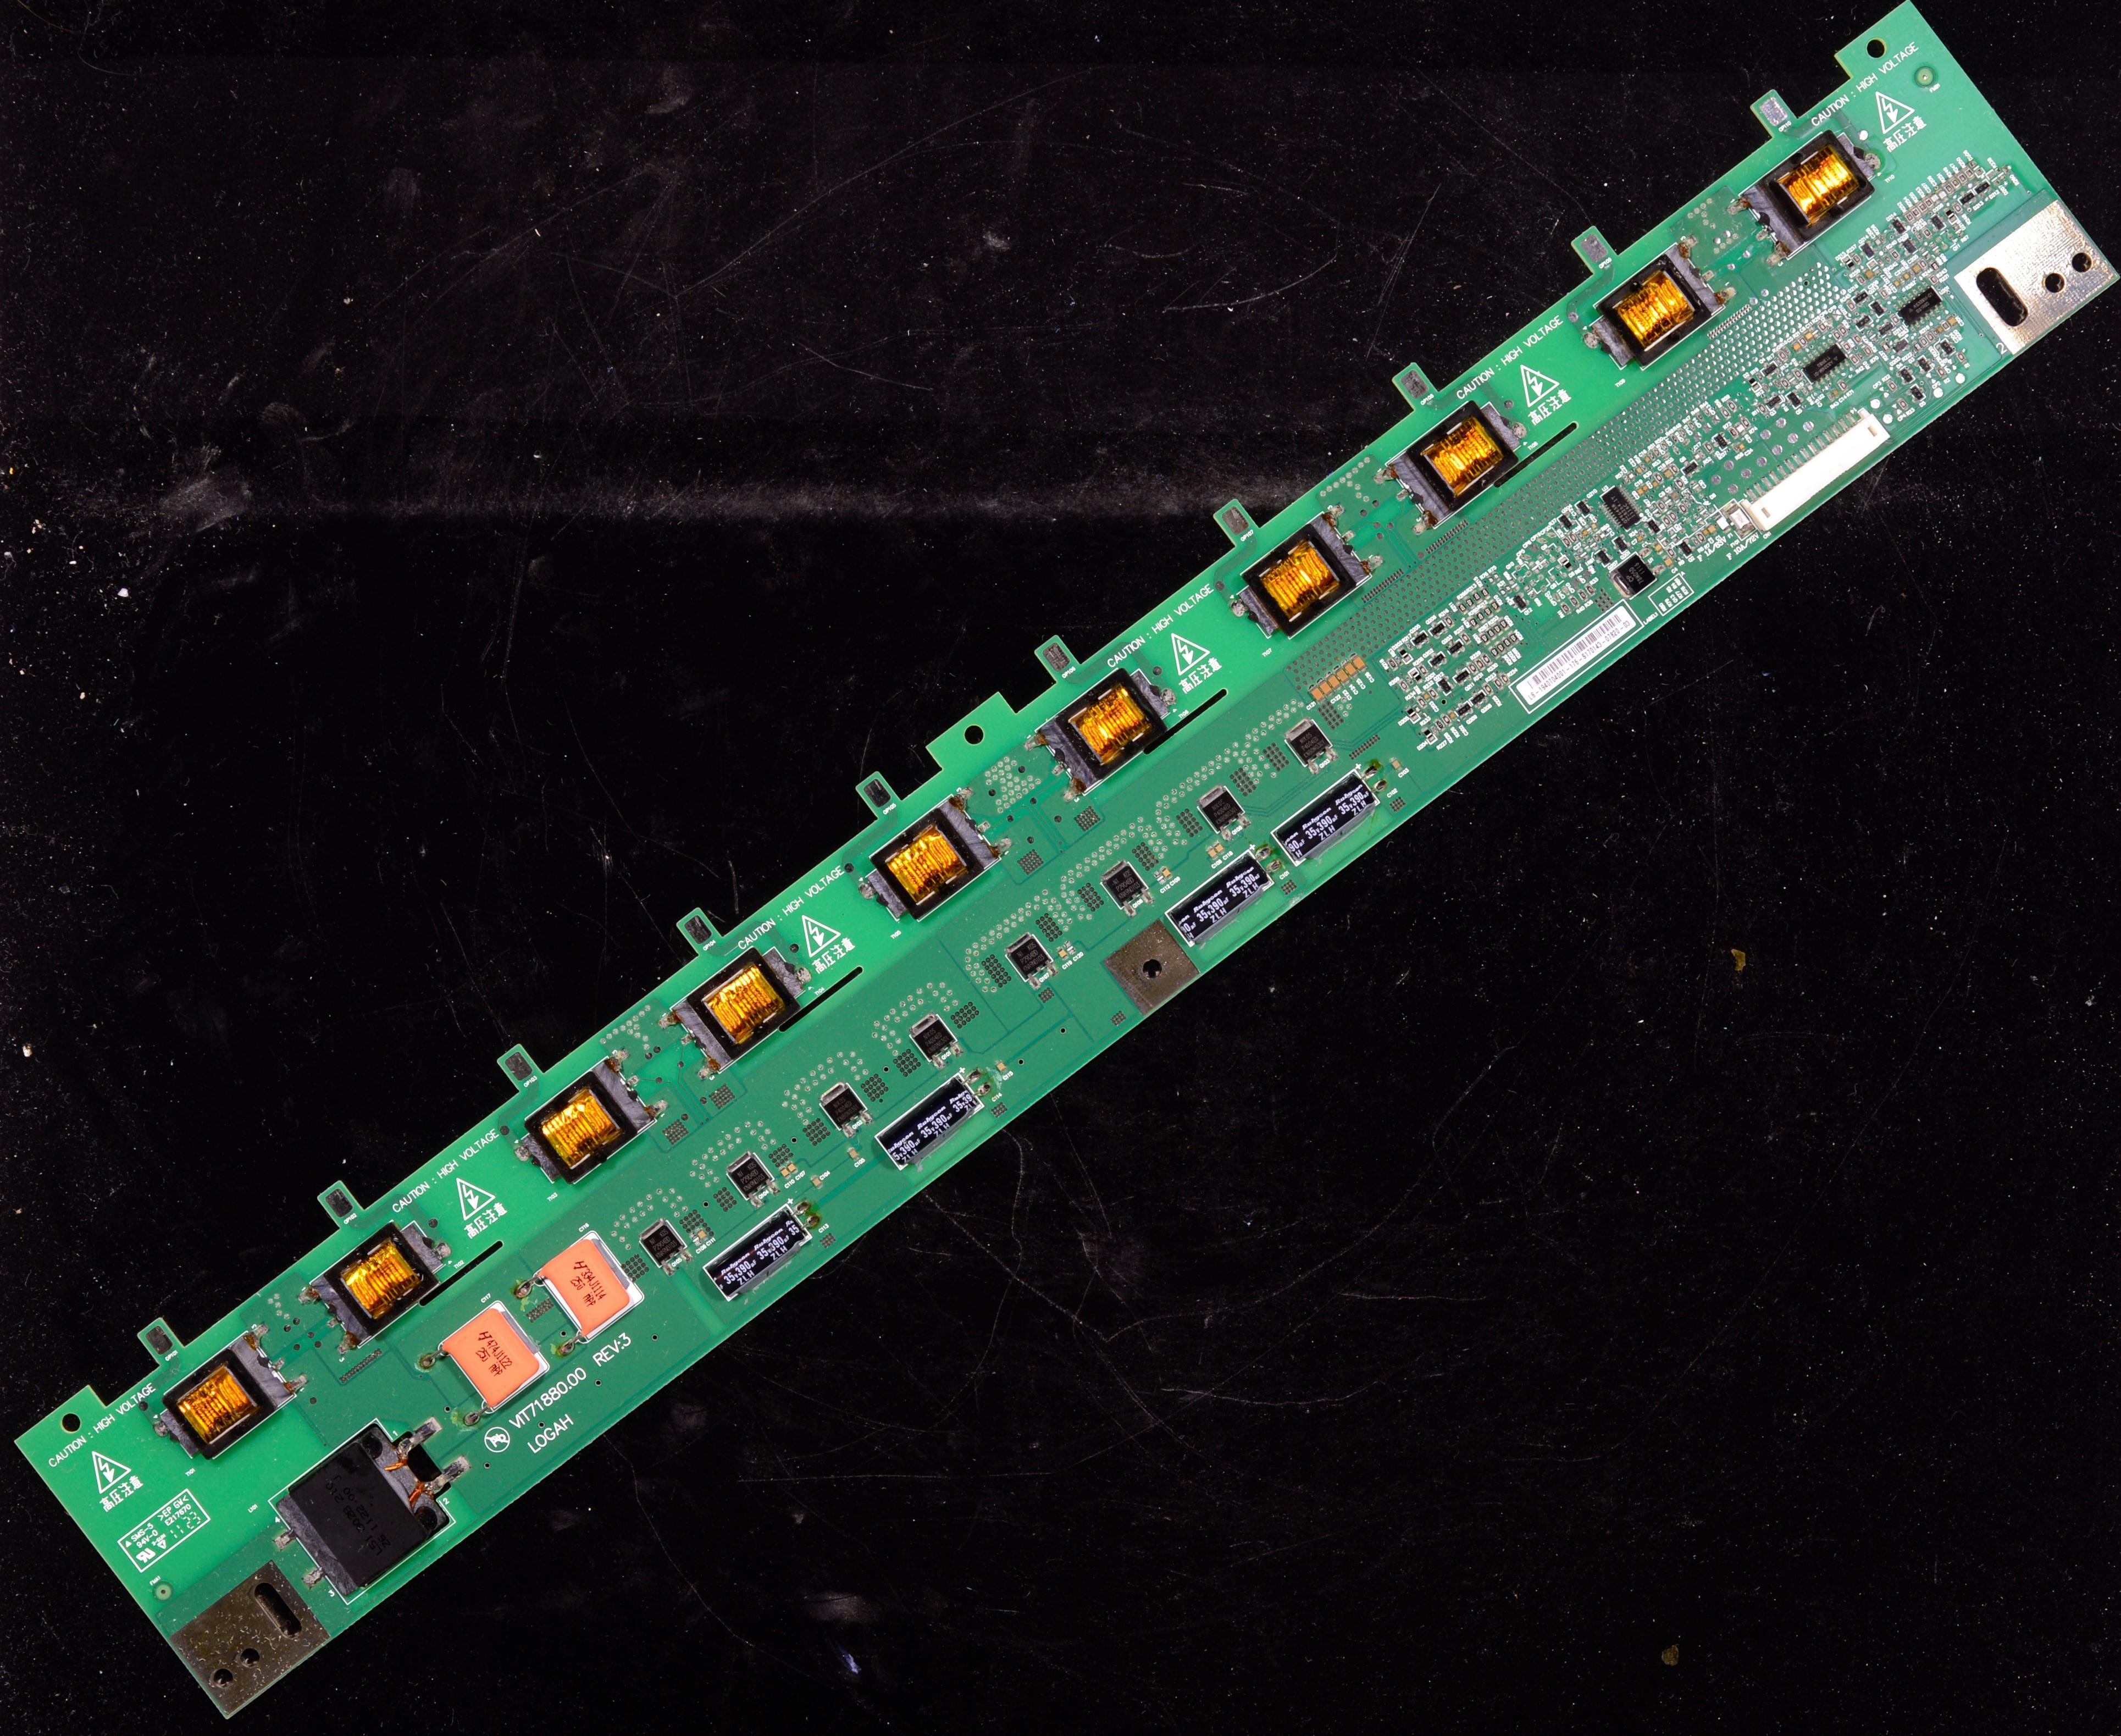Capacitor: (525, 1216, 665, 1347), (424, 1296, 558, 1407), (987, 1059, 1020, 1080), (783, 1155, 802, 1182), (1210, 835, 1232, 862), (1384, 755, 1413, 776), (841, 1146, 867, 1165), (1150, 867, 1171, 889), (1051, 948, 1076, 966), (806, 1175, 830, 1192), (696, 1223, 712, 1247), (777, 1166, 796, 1184), (1062, 939, 1083, 955), (1201, 845, 1220, 863), (686, 1234, 705, 1251), (1161, 860, 1175, 881), (1799, 328, 1818, 342), (1944, 316, 1965, 328), (1926, 192, 1943, 206), (1787, 341, 1806, 353), (1659, 557, 1677, 569), (1705, 524, 1723, 535), (1689, 450, 1704, 463), (1934, 189, 1951, 202), (1735, 441, 1752, 452), (1860, 269, 1878, 280), (1668, 489, 1682, 502), (1652, 539, 1665, 554), (1702, 443, 1718, 454), (1632, 465, 1647, 477), (1910, 263, 1924, 275), (1625, 470, 1638, 482), (1650, 472, 1665, 484), (1700, 529, 1714, 539), (1633, 534, 1647, 544), (1637, 485, 1653, 493), (1662, 496, 1677, 506), (1872, 237, 1884, 248), (1662, 469, 1674, 479), (1890, 280, 1904, 289), (1648, 479, 1660, 489), (1641, 455, 1653, 465), (1902, 273, 1914, 281), (1635, 488, 1648, 497), (1589, 523, 1602, 532), (1936, 326, 1946, 335), (1579, 529, 1591, 537)
IC: (1611, 548, 1660, 598), (1798, 342, 1856, 381), (1890, 287, 1949, 324), (1599, 484, 1641, 526)
Resistor: (1881, 376, 1901, 392), (1499, 668, 1514, 687), (1581, 584, 1607, 596), (1422, 687, 1444, 699), (1438, 715, 1459, 728), (1752, 403, 1771, 417), (1575, 591, 1593, 605), (1565, 596, 1584, 609), (1500, 638, 1519, 652), (1464, 664, 1482, 677), (1954, 352, 1972, 366), (1665, 433, 1683, 445), (1835, 380, 1854, 393), (1738, 416, 1758, 429), (1652, 501, 1672, 513), (1441, 615, 1457, 629), (1393, 682, 1414, 693), (1994, 168, 2009, 181), (1776, 347, 1789, 363), (1718, 406, 1733, 419), (1464, 617, 1481, 629), (1506, 633, 1523, 644), (1400, 639, 1417, 653), (1383, 660, 1401, 672), (1887, 250, 1904, 262), (1923, 331, 1939, 344), (1795, 336, 1812, 349), (1748, 383, 1766, 395), (1894, 399, 1912, 411), (1724, 400, 1742, 412), (1725, 427, 1742, 439), (1487, 601, 1505, 611), (1455, 633, 1474, 644), (1471, 660, 1489, 671), (1489, 678, 1508, 690), (1431, 721, 1449, 732), (1502, 582, 1516, 596), (1851, 331, 1865, 345), (1474, 612, 1489, 623), (1412, 696, 1429, 709), (1954, 173, 1969, 185), (1921, 198, 1935, 209), (1929, 261, 1945, 274), (1889, 314, 1905, 326), (1938, 321, 1954, 333), (1815, 322, 1831, 334), (1934, 369, 1950, 381), (1674, 429, 1690, 440), (1564, 531, 1580, 544), (1559, 538, 1575, 549), (1477, 587, 1495, 598), (1497, 621, 1515, 631), (1485, 648, 1502, 659), (1476, 653, 1494, 665), (1836, 325, 1853, 337), (1839, 344, 1856, 353), (1683, 421, 1702, 433), (1654, 441, 1672, 452), (1665, 512, 1682, 522), (1491, 568, 1503, 583), (1558, 603, 1573, 615), (1483, 606, 1497, 618), (1417, 665, 1431, 676), (1481, 685, 1496, 699), (1962, 168, 1975, 182), (1947, 177, 1961, 189), (1941, 183, 1956, 196), (1914, 202, 1929, 214), (1906, 204, 1920, 217), (1902, 211, 1915, 223), (1824, 391, 1837, 403), (1676, 502, 1691, 515), (1461, 598, 1480, 607), (1664, 549, 1681, 559), (1471, 591, 1487, 604), (1493, 644, 1510, 654), (1918, 228, 1934, 238), (1844, 301, 1860, 313), (1828, 330, 1845, 340), (1917, 336, 1932, 348), (1659, 516, 1675, 528), (1693, 532, 1708, 544), (1878, 286, 1890, 299), (1781, 344, 1793, 356), (1691, 535, 1704, 546), (1485, 629, 1499, 639), (1478, 633, 1492, 644), (2000, 164, 2013, 175), (1849, 254, 1864, 264), (1854, 275, 1868, 286), (1847, 356, 1862, 366), (1699, 405, 1713, 416), (1693, 412, 1707, 423), (1649, 447, 1664, 457), (1674, 479, 1688, 490), (1484, 576, 1499, 586), (1860, 347, 1876, 357), (1910, 340, 1924, 351), (1760, 383, 1773, 392), (1454, 604, 1470, 612), (1950, 204, 1964, 214), (1753, 372, 1766, 381), (1779, 378, 1793, 388), (1491, 627, 1505, 635), (1878, 235, 1890, 245), (1926, 276, 1942, 284), (1930, 327, 1941, 338), (1793, 370, 1804, 380), (1798, 386, 1810, 396), (1497, 588, 1509, 597), (1882, 256, 1893, 264), (1773, 357, 1785, 367), (1696, 449, 1709, 459), (1668, 465, 1681, 474), (1875, 259, 1886, 267)
Transistor: (1092, 847, 1157, 915), (805, 1079, 873, 1134), (1273, 716, 1339, 770), (1183, 786, 1250, 839), (638, 1209, 692, 1271), (901, 1012, 961, 1065), (724, 1152, 782, 1205), (993, 932, 1055, 981), (1550, 512, 1583, 532), (1674, 460, 1707, 479), (1449, 701, 1478, 722), (1931, 229, 1960, 251), (1782, 391, 1811, 412), (1671, 541, 1700, 560), (1468, 689, 1497, 709), (1759, 393, 1788, 412), (1570, 496, 1598, 517), (1424, 650, 1448, 672), (1508, 563, 1535, 583), (1707, 431, 1734, 451), (1423, 620, 1451, 638), (1409, 626, 1430, 649), (1856, 240, 1881, 258), (1506, 593, 1533, 612), (1450, 668, 1476, 685), (1608, 537, 1635, 554), (1641, 520, 1668, 534), (1432, 678, 1457, 694), (1591, 550, 1614, 566), (1441, 639, 1465, 656)
